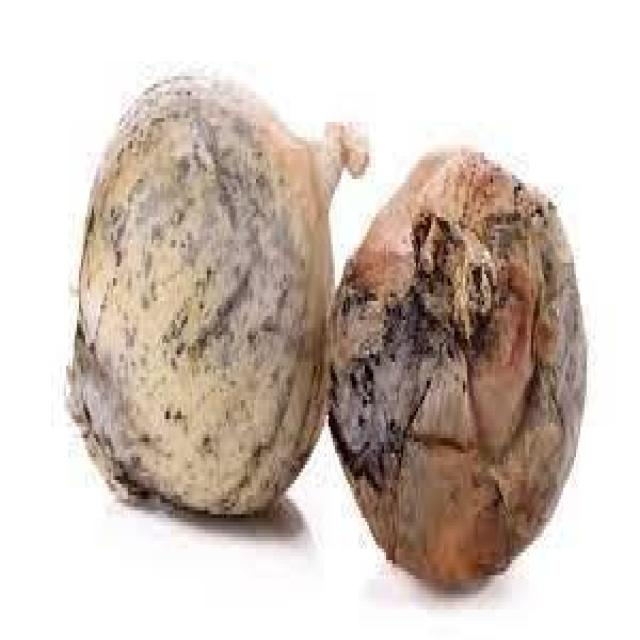Onion: (66, 72, 369, 530), (322, 137, 587, 594)
